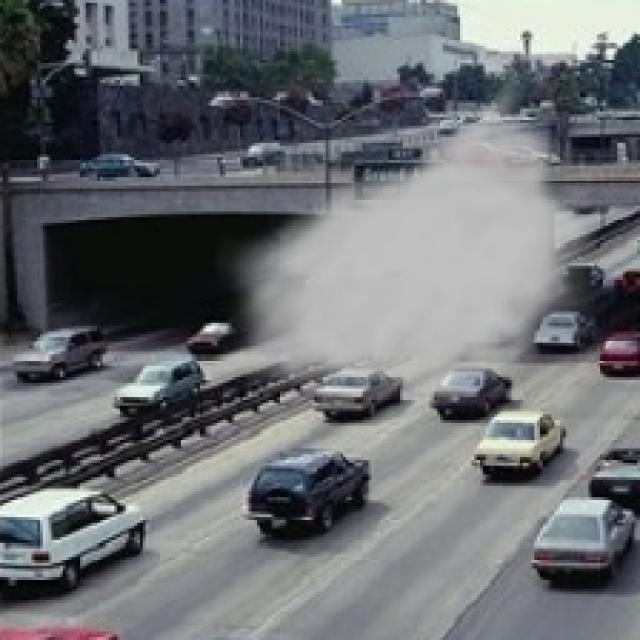smoke: (211, 57, 606, 406)
